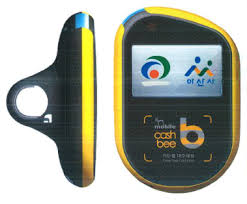terminal: (110, 4, 242, 197)
